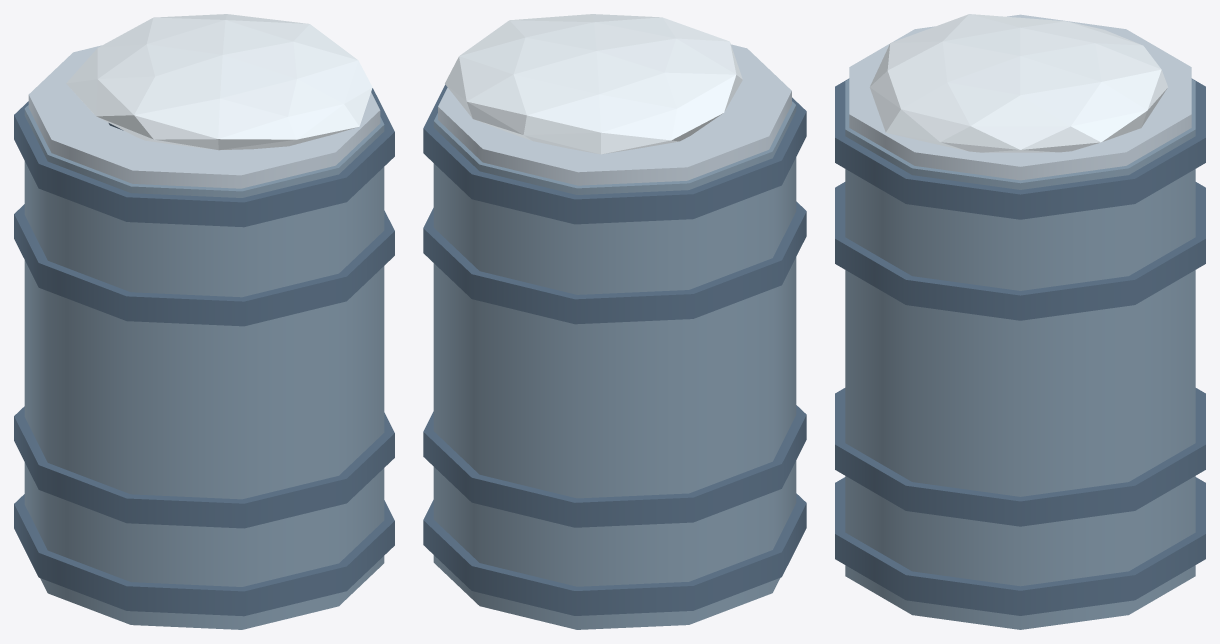
The model's file is cover-barrel-snowy.glb.
3 views of the same model, side by side, from view 1: azimuth 30°, elevation 25°; view 2: azimuth 150°, elevation 25°; view 3: azimuth 270°, elevation 25° (orthographic).
Parts seen in each view (by area): view 1: cover-barrel-kit-snowy-metal, cover-barrel-kit-snowy-dark, cover-barrel-kit-snowy-top, cover-barrel-kit-snowy-light; view 2: cover-barrel-kit-snowy-metal, cover-barrel-kit-snowy-dark, cover-barrel-kit-snowy-top, cover-barrel-kit-snowy-light; view 3: cover-barrel-kit-snowy-metal, cover-barrel-kit-snowy-dark, cover-barrel-kit-snowy-top, cover-barrel-kit-snowy-light.
Part boxes in pixels (x1=…): cover-barrel-kit-snowy-metal: x1=24, y1=105, x2=384, y2=629; cover-barrel-kit-snowy-dark: x1=14, y1=88, x2=394, y2=616; cover-barrel-kit-snowy-top: x1=66, y1=14, x2=372, y2=150; cover-barrel-kit-snowy-light: x1=28, y1=45, x2=380, y2=188; cover-barrel-kit-snowy-metal: x1=433, y1=101, x2=796, y2=629; cover-barrel-kit-snowy-dark: x1=423, y1=84, x2=806, y2=615; cover-barrel-kit-snowy-top: x1=445, y1=14, x2=742, y2=154; cover-barrel-kit-snowy-light: x1=438, y1=44, x2=791, y2=185; cover-barrel-kit-snowy-metal: x1=845, y1=79, x2=1195, y2=629; cover-barrel-kit-snowy-dark: x1=835, y1=78, x2=1205, y2=615; cover-barrel-kit-snowy-top: x1=869, y1=14, x2=1167, y2=152; cover-barrel-kit-snowy-light: x1=849, y1=14, x2=1191, y2=180.
Bounding box in the file's own units: 0.91 × 1.3 × 0.8655.
